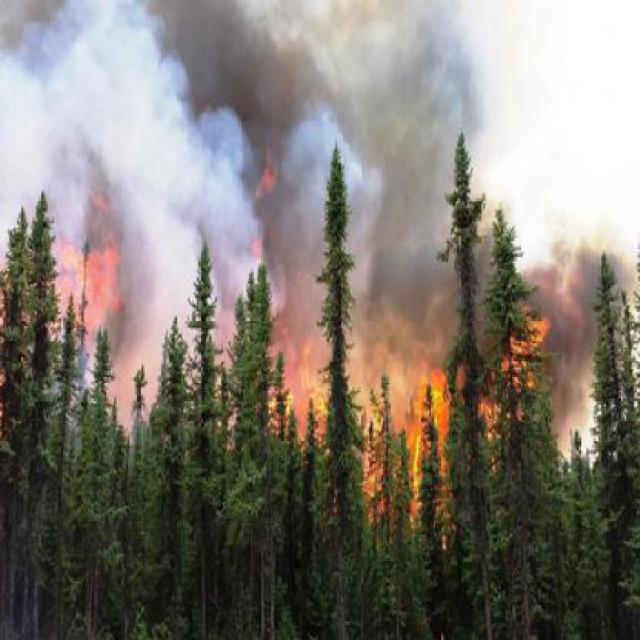fire: (344, 329, 473, 535)
